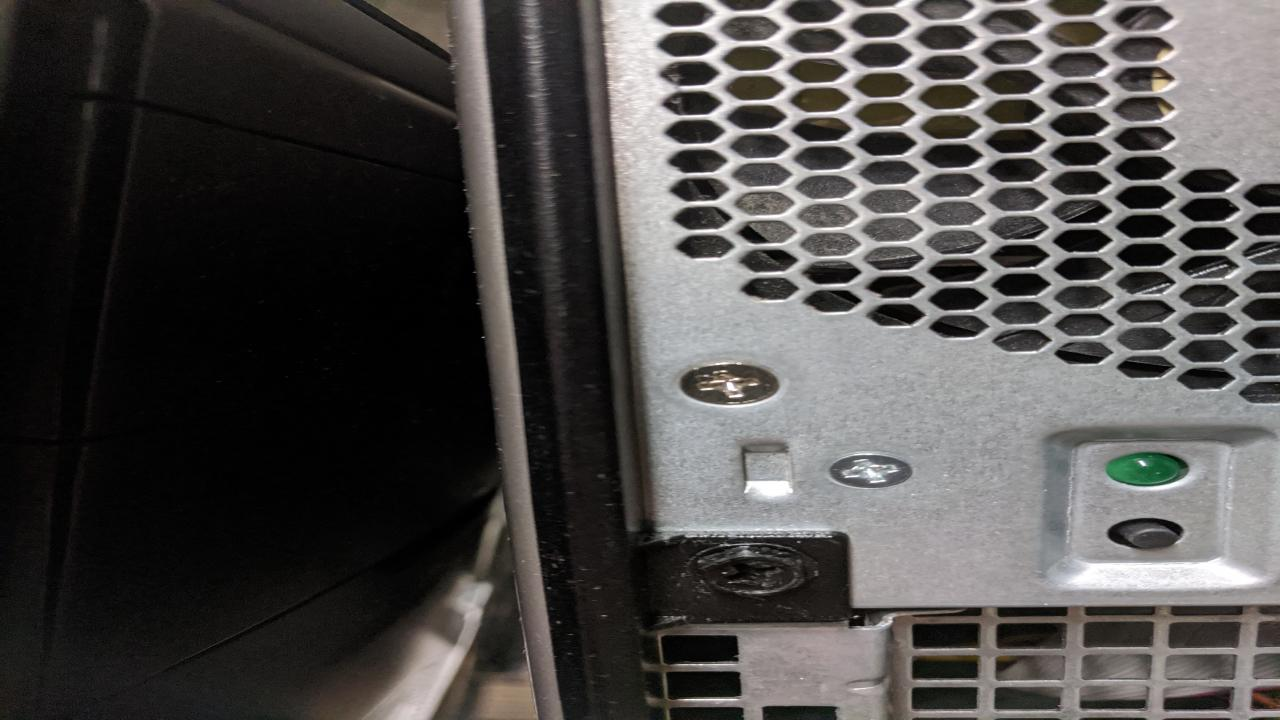CRS: (699, 544, 816, 598), (679, 363, 782, 407), (831, 454, 913, 487)
